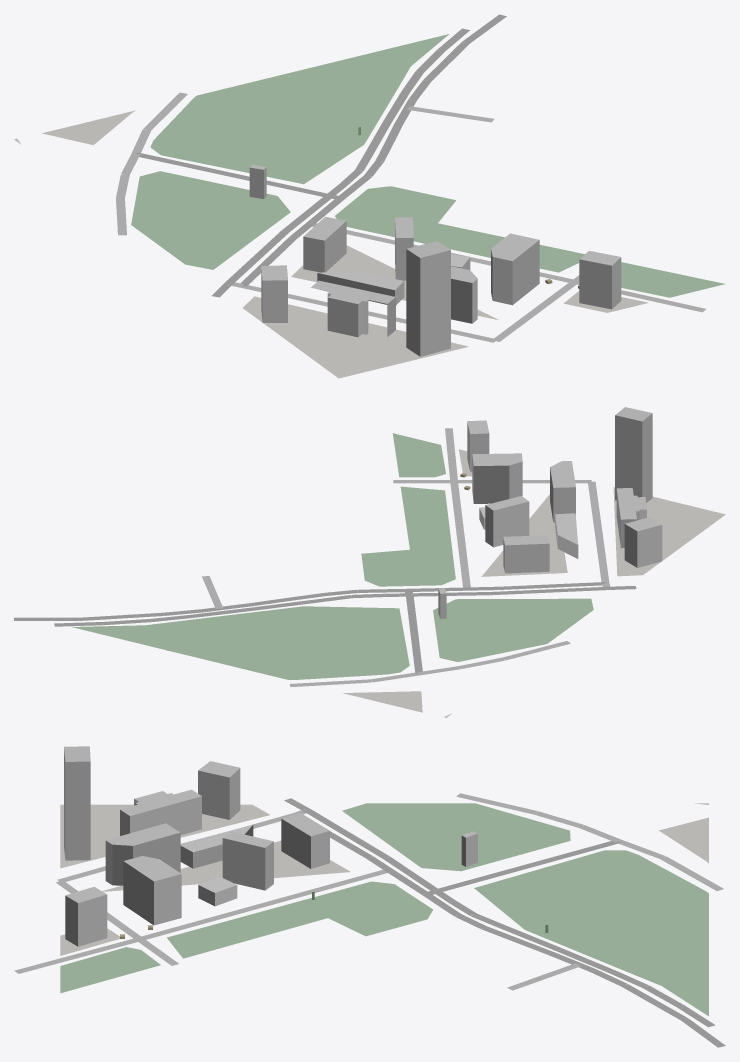
3 renders of one model, top to bottom at view 1: azimuth 30°, elevation 25°; view 2: azimuth 150°, elevation 25°; view 3: azimuth 270°, elevation 25°, orthographic. The views are drawn at different scales.
Size of the model in its own units: 461 by 84.25 by 549.
